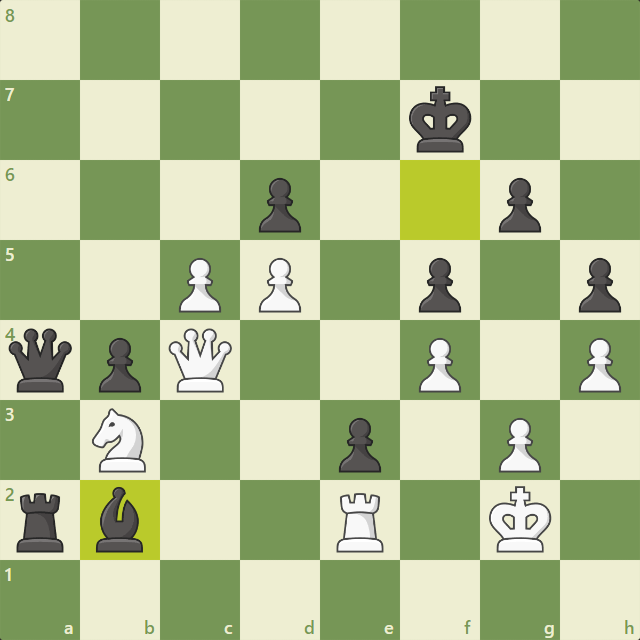K: (487, 485, 553, 556)
N: (90, 407, 148, 476)
P: (498, 416, 542, 475), (578, 336, 622, 395), (418, 336, 462, 395), (258, 257, 302, 316), (177, 256, 221, 315)
Q: (167, 326, 233, 395)
R: (333, 490, 387, 555)
b: (94, 486, 144, 555)
k: (408, 84, 474, 155)
p: (337, 416, 383, 475), (97, 336, 143, 395), (257, 176, 303, 235), (417, 257, 463, 316), (497, 178, 543, 237), (577, 257, 623, 316)
q: (7, 327, 74, 396)
r: (13, 492, 66, 556)
